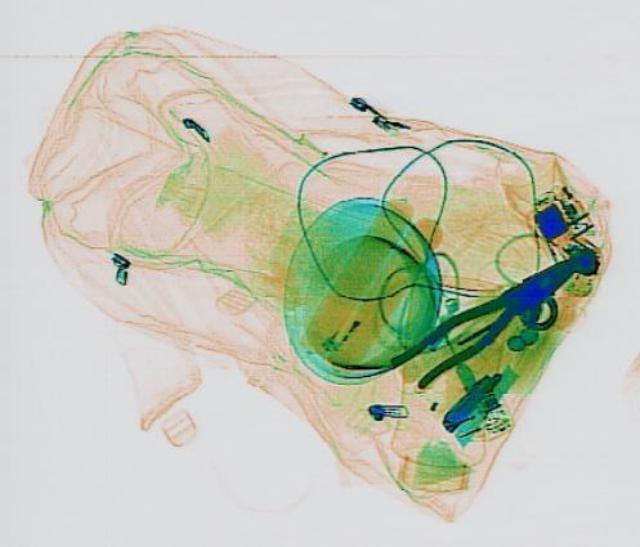Pliers: (382, 242, 592, 391)
